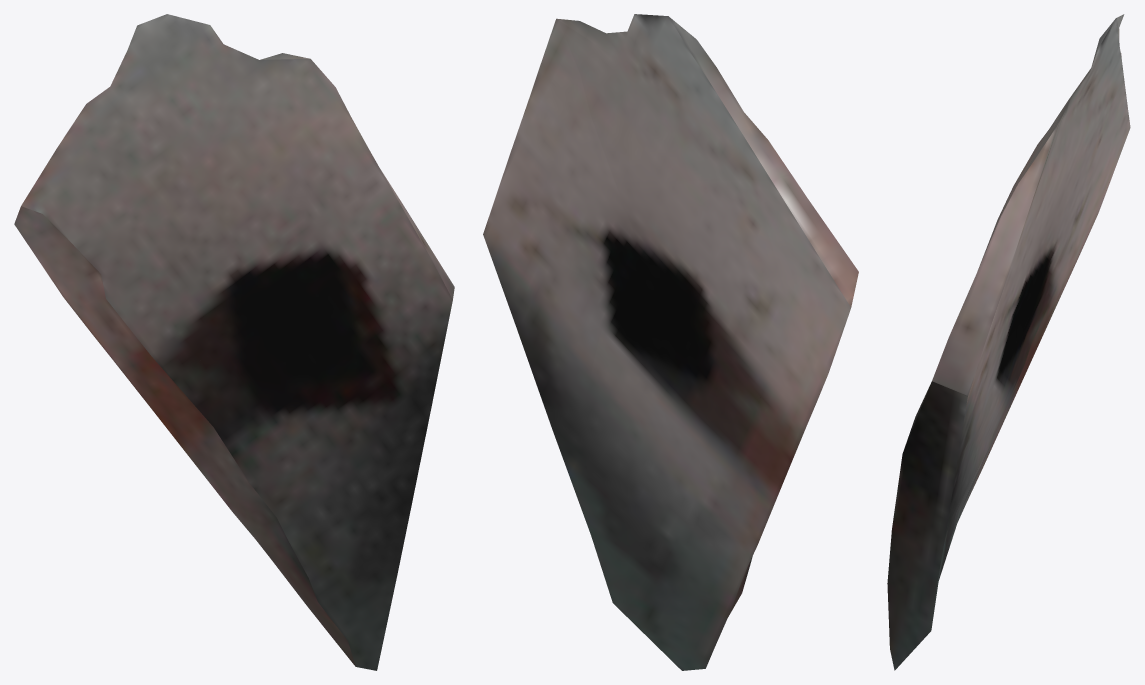
Rendered from Ceramic021.gltf.
3 views of the same model, side by side, from view 1: azimuth 30°, elevation 25°; view 2: azimuth 150°, elevation 25°; view 3: azimuth 270°, elevation 25° (orthographic). The views are drawn at different scales.
Parts seen in each view (by area): view 1: Ceramic021_002, Ceramic021_003, Ceramic021, Ceramic021_001, Ceramic021_004, Ceramic021_005; view 2: Ceramic021_003, Ceramic021_002, Ceramic021, Ceramic021_001, Ceramic021_005, Ceramic021_004; view 3: Ceramic021_001, Ceramic021_003, Ceramic021_005, Ceramic021_002, Ceramic021, Ceramic021_004.
Part boxes in pixels (x1,y1,x2,y2): Ceramic021_002: [14, 131, 304, 388]; Ceramic021_003: [203, 322, 421, 670]; Ceramic021: [68, 14, 309, 210]; Ceramic021_001: [287, 58, 450, 335]; Ceramic021_004: [135, 245, 313, 473]; Ceramic021_005: [346, 275, 454, 456]; Ceramic021_003: [566, 292, 769, 670]; Ceramic021_002: [615, 175, 858, 445]; Ceramic021: [558, 14, 791, 182]; Ceramic021_001: [487, 18, 668, 324]; Ceramic021_005: [483, 223, 610, 467]; Ceramic021_004: [630, 222, 798, 514]; Ceramic021_001: [934, 125, 1057, 381]; Ceramic021_003: [887, 329, 1015, 670]; Ceramic021_005: [897, 340, 1006, 544]; Ceramic021_002: [1037, 80, 1130, 321]; Ceramic021: [996, 14, 1124, 227]; Ceramic021_004: [1003, 254, 1048, 422].
Bounding box in the file's own units: 0.082 × 0.1309 × 0.0478.
1 material, 1 textured.
